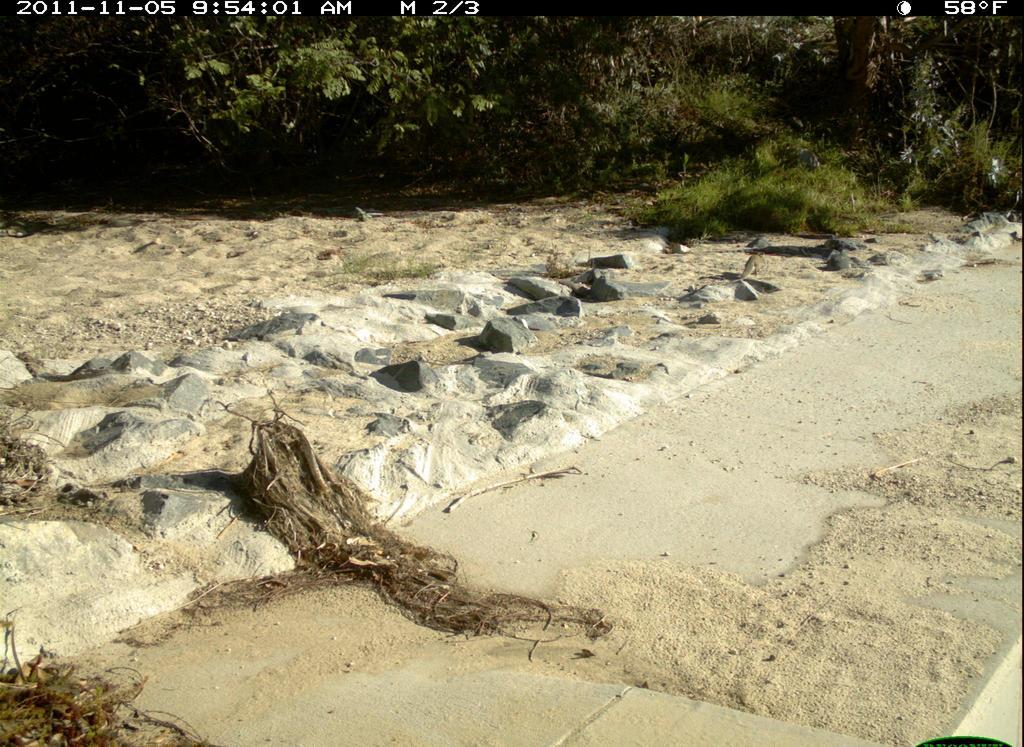squirrel: (738, 251, 767, 284)
